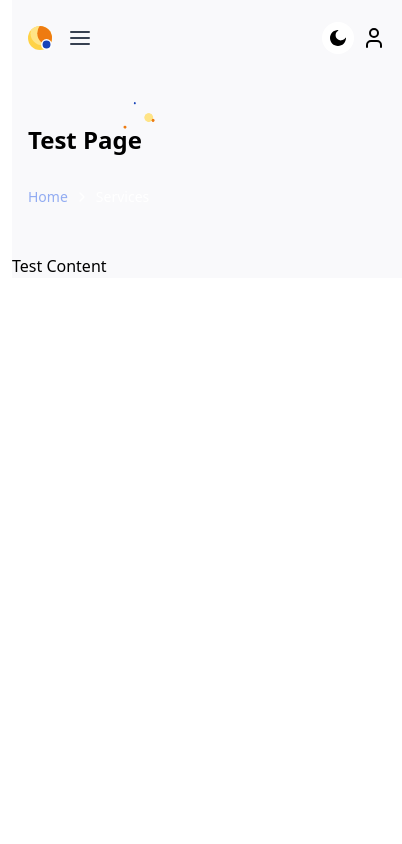
it: PageLayout - Interactive Tests › should toggle mobile auth dropdown
What coordinates should you click on to do the following:
click the button named "Toggle auth menu"
I would click on:
 (374, 38)
Its box is [362,16,386,60].
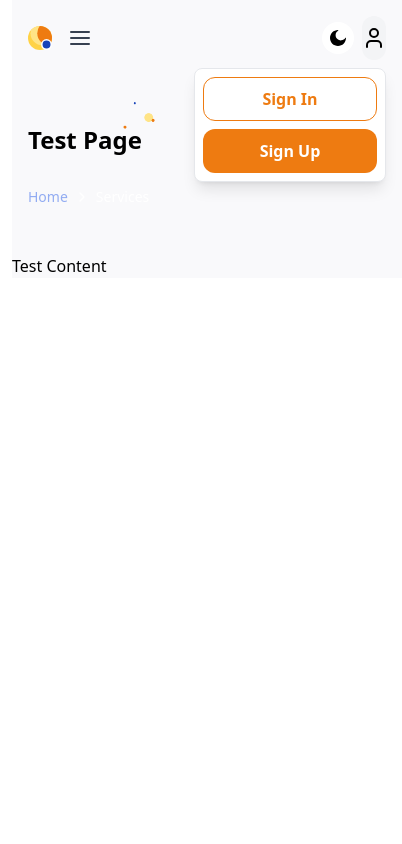
Expected: the element with class "inset-0" is shown
